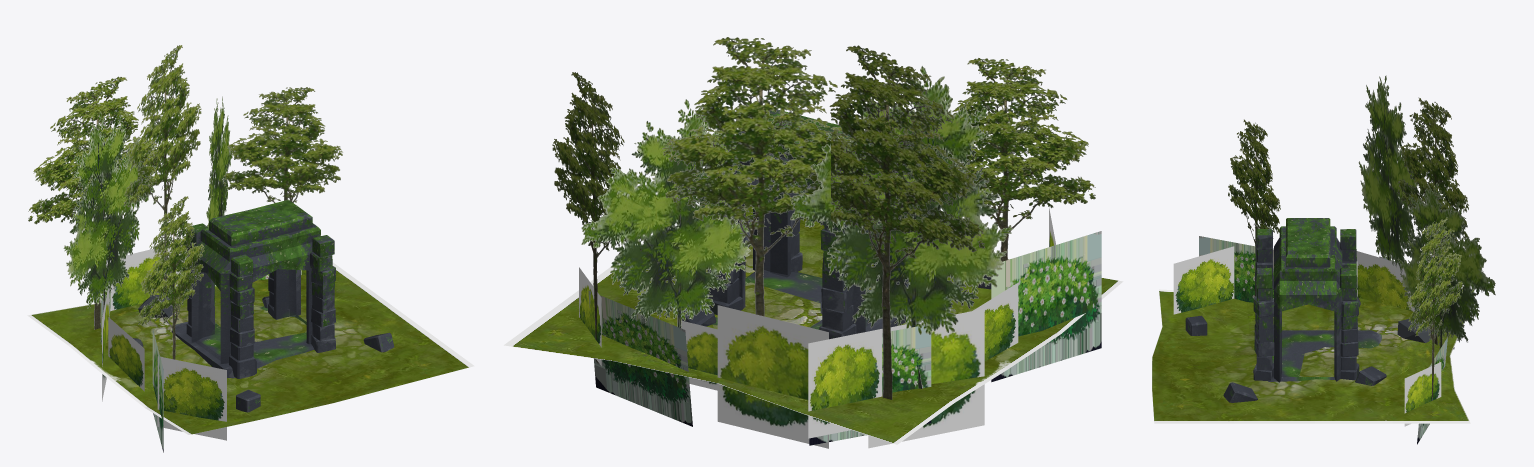
Rendered from ruin_arch.glb.
3 renders of one model, left to right at view 1: azimuth 30°, elevation 25°; view 2: azimuth 150°, elevation 25°; view 3: azimuth 270°, elevation 25°, orthographic. The views are drawn at different scales.
Visible parts, largest first — view 1: ground, Arch, tree.004, tree.003, tree, tree.001, tree.002, grass.007, tree.005, grass.001, grass.004, grass.006 (+2 smaller); view 2: tree.001, tree, tree.004, ground, tree.005, tree.002, grass.001, grass.006, Arch, grass.008, tree.003, grass.002 (+5 smaller); view 3: ground, Arch, tree.004, tree.005, tree.001, tree.003, tree.002, grass.007, grass.003, grass.006, grass.009, rock (+4 smaller).
Boxes of the visible parts, x1,y1,x2,y2 form: ground: (27,262,474,434); Arch: (171,199,335,378); tree.004: (63,112,153,341); tree.003: (224,87,342,203); tree: (28,76,158,329); tree.001: (124,45,201,295); tree.002: (138,196,204,359); grass.007: (157,356,226,440); tree.005: (206,96,232,227); grass.001: (110,245,187,310); grass.004: (108,317,144,391); grass.006: (152,328,163,452); tree.001: (662,37,850,316); tree: (805,45,985,399); tree.004: (790,66,1013,388); ground: (504,202,1123,444); tree.005: (581,99,757,328); tree.002: (944,58,1095,261); grass.001: (717,305,828,448); grass.006: (991,231,1101,382); Arch: (706,109,908,339); grass.008: (588,290,692,426); tree.003: (552,72,641,363); grass.002: (808,329,882,438); ground: (1152,288,1474,423); Arch: (1253,218,1381,382); tree.004: (1358,75,1424,273); tree.005: (1397,182,1495,349); tree.001: (1397,97,1468,345); tree.003: (1407,217,1462,400); tree.002: (1228,119,1280,296); grass.007: (1173,246,1234,314); grass.003: (1356,251,1414,311); grass.006: (1199,236,1273,302); grass.009: (1404,362,1441,426); rock: (1397,318,1430,342).
Bounding box in the file's own units: 2.51 × 2.01 × 2.29.
7 materials, 6 textured.
